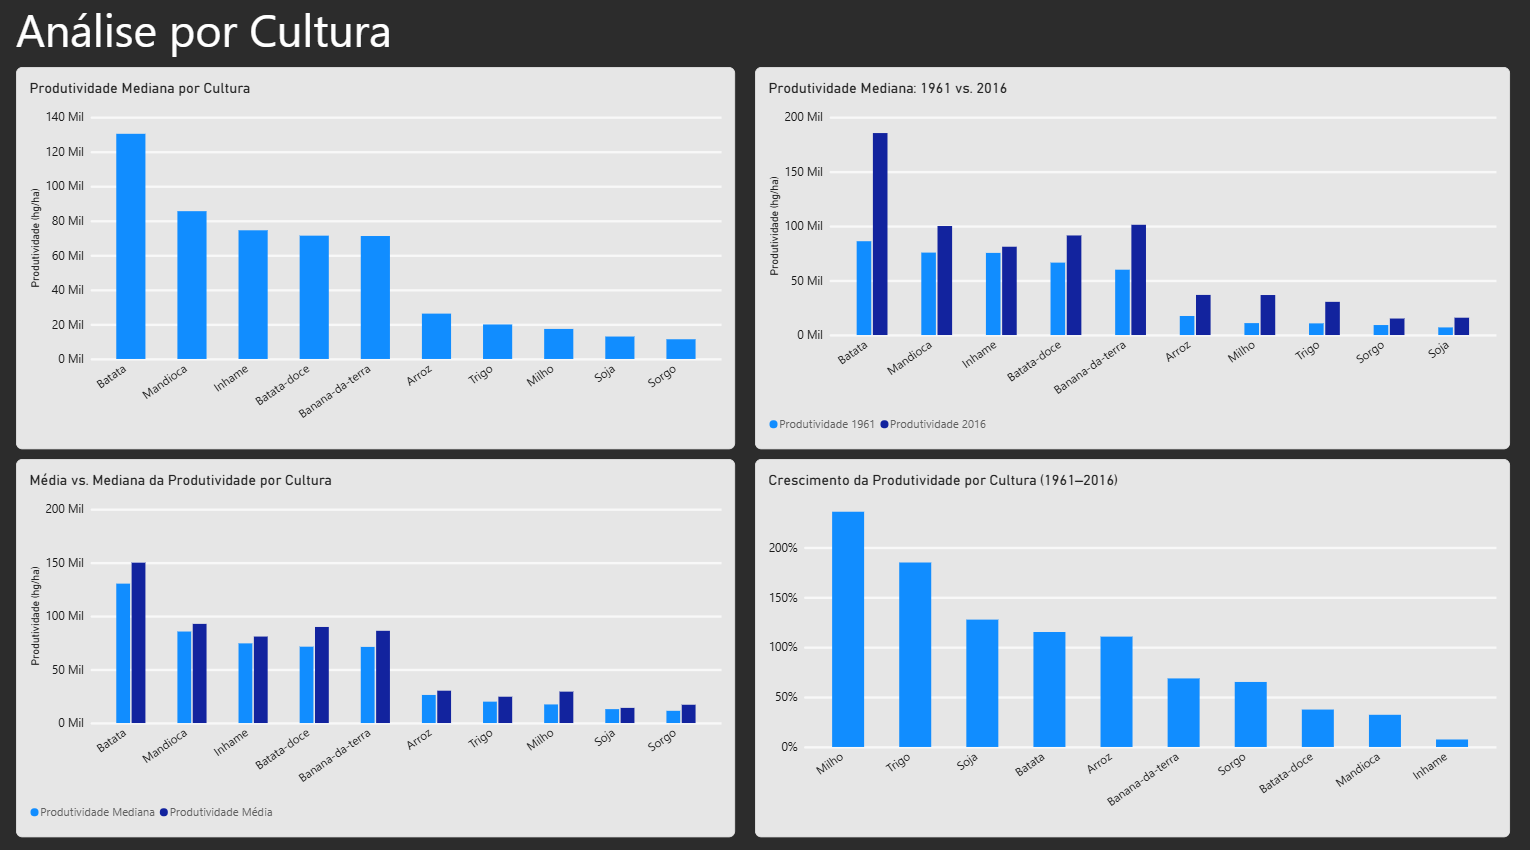

The dashboard page shown, as its layout file describes it:
{"tool":"powerbi","page":{"name":"Análise por Cultura","canvas":[1920,1080],"ordinal":1},"visuals":[{"type":"clusteredColumnChart","title":"Produtividade Mediana por Cultura","fields":{"Category":["Dim_Cultura.Cultura"],"Y":["yield_integrado.Produtividade Mediana"]},"box":[22.6,97.7,900.8,478.6],"z":0},{"type":"clusteredColumnChart","title":"Média vs. Mediana da Produtividade por Cultura","fields":{"Category":["Dim_Cultura.Cultura"],"Y":["yield_integrado.Produtividade Mediana","yield_integrado.Produtividade Média"]},"box":[22.6,588.9,900.8,473.6],"z":1},{"type":"clusteredColumnChart","title":"Produtividade Mediana: 1961 vs. 2016","fields":{"Category":["Dim_Cultura.Cultura"],"Y":["Sum(indicadores_temporais.produtividade_1961)","Sum(indicadores_temporais.produtividade_2016)"]},"box":[948.4,97.7,945.9,478.6],"z":2},{"type":"clusteredColumnChart","title":"Crescimento da Produtividade por Cultura (1961–2016)","fields":{"Category":["Dim_Cultura.Cultura"],"Y":["yield_integrado.Crescimento 1961-2016"]},"box":[948.4,588.9,945.9,473.6],"z":3},{"type":"textbox","box":[22.6,12.5,483.6,210.5],"z":4}]}

Visuals, with their boxes in screenshot pixels (x1, y1, x2, y2), scaled from the page's 1920x1080 canvas onto the 1530x850 screenshot:
"Produtividade Mediana por Cultura" clusteredColumnChart: <box>18,77,736,454</box>
"Média vs. Mediana da Produtividade por Cultura" clusteredColumnChart: <box>18,463,736,836</box>
"Produtividade Mediana: 1961 vs. 2016" clusteredColumnChart: <box>756,77,1510,454</box>
"Crescimento da Produtividade por Cultura (1961–2016)" clusteredColumnChart: <box>756,463,1510,836</box>
textbox: <box>18,10,403,176</box>
